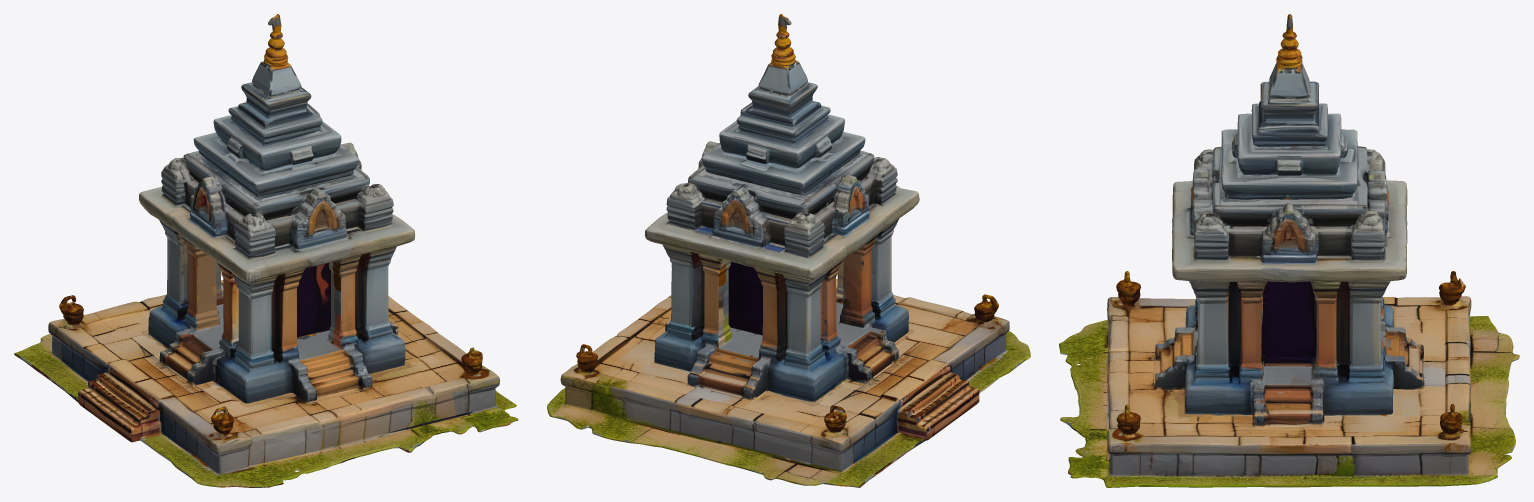
File: south-indian-small-temple-kadamba-style-optimized (1).glb
The picture shows the model from 3 angles, left to right: view 1: azimuth 30°, elevation 25°; view 2: azimuth 150°, elevation 25°; view 3: azimuth 270°, elevation 25°; orthographic projection. The views are drawn at different scales.
Parts seen in each view (by area): view 1: ace884b1-2631-4abc-8352-825a8d06eb90_texturing; view 2: ace884b1-2631-4abc-8352-825a8d06eb90_texturing; view 3: ace884b1-2631-4abc-8352-825a8d06eb90_texturing.
Part boxes in pixels (x1,y1,x2,y2): ace884b1-2631-4abc-8352-825a8d06eb90_texturing: (14,14,518,487); ace884b1-2631-4abc-8352-825a8d06eb90_texturing: (547,14,1030,487); ace884b1-2631-4abc-8352-825a8d06eb90_texturing: (1059,14,1519,487).
Size of the model in its own units: 1.75 by 1.88 by 1.99.
1 material, 1 textured.
